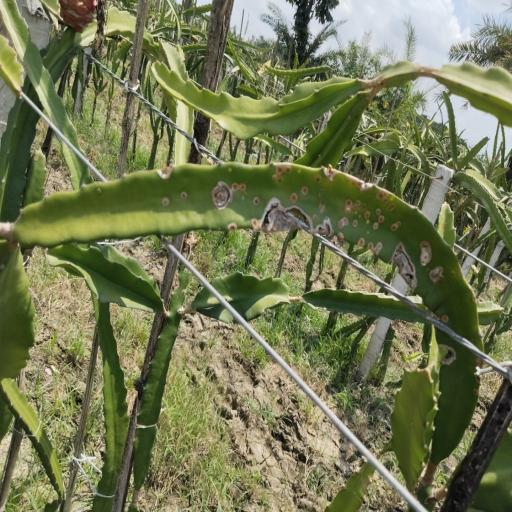stemcanker: (337, 192, 372, 232), (158, 186, 188, 213), (268, 164, 295, 185), (289, 185, 312, 206), (358, 240, 383, 256), (373, 207, 386, 231), (232, 182, 249, 198), (318, 189, 328, 216), (390, 218, 406, 234), (440, 314, 452, 326), (315, 175, 326, 187), (310, 212, 321, 224), (250, 218, 260, 230), (95, 187, 105, 198), (336, 233, 347, 243), (451, 270, 458, 285), (253, 198, 261, 209), (228, 167, 236, 174)
